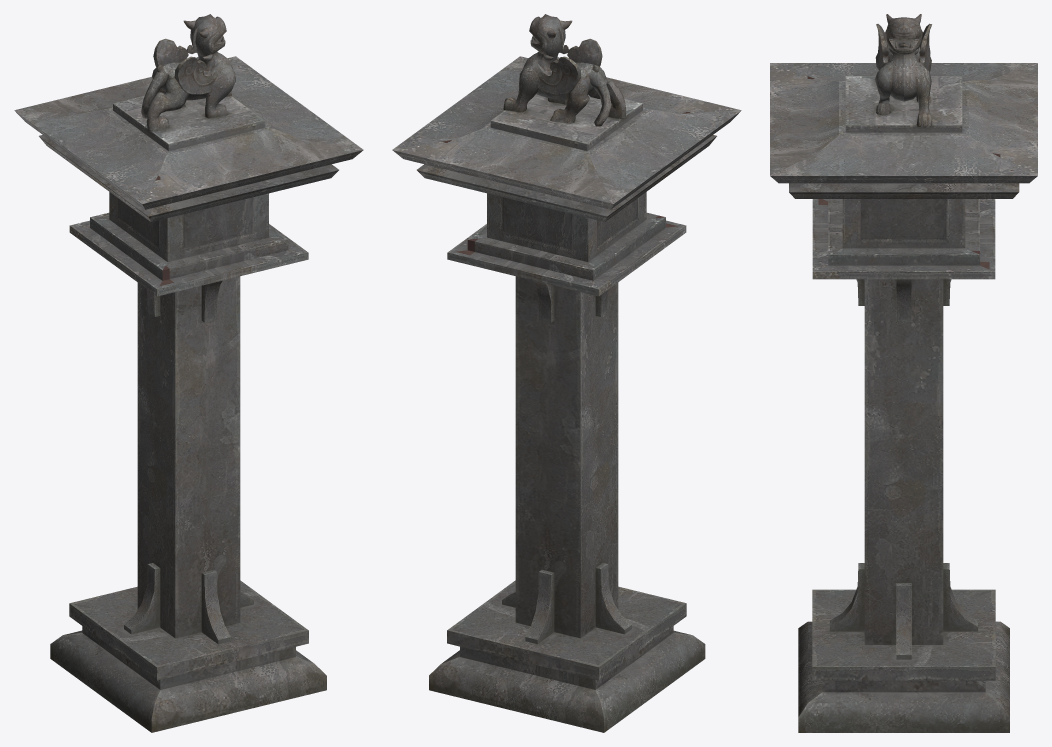
The model's file is MT_jiaju_shizhu_12.FBX.
3 renders of one model, left to right at view 1: azimuth 30°, elevation 25°; view 2: azimuth 150°, elevation 25°; view 3: azimuth 270°, elevation 25°, orthographic. The views are drawn at different scales.
Visible parts, largest first — view 1: MT_jiaju_shizhu_12; view 2: MT_jiaju_shizhu_12; view 3: MT_jiaju_shizhu_12.
Boxes of the visible parts, x1=… form: MT_jiaju_shizhu_12: x1=14, y1=14, x2=363, y2=732; MT_jiaju_shizhu_12: x1=392, y1=14, x2=741, y2=732; MT_jiaju_shizhu_12: x1=770, y1=14, x2=1037, y2=732.
Bounding box in the file's own units: 63.43 × 178 × 63.47.
